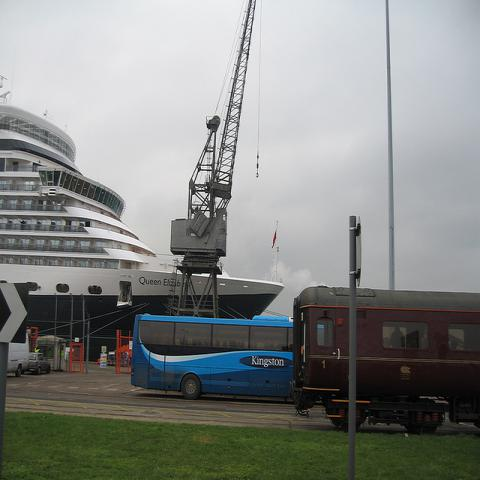bus: (130, 313, 292, 399)
car: (28, 352, 51, 374)
